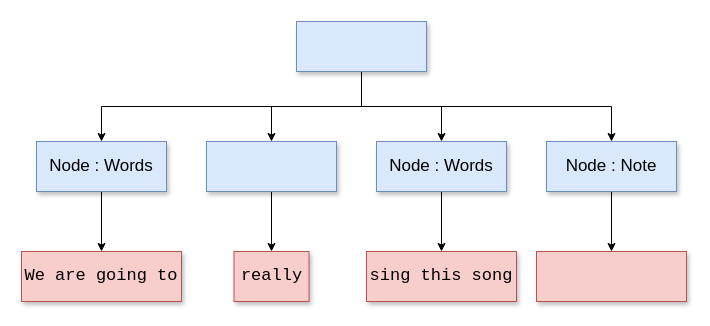
The diagram is 710 pixels wide and 326 high, and some of its shapes have lost their labels. The centre of each missing label's shape, as x and y in pixels:
A Comment Here: (612,277)
Line: (362,47)
Node : Aside: (272,167)
